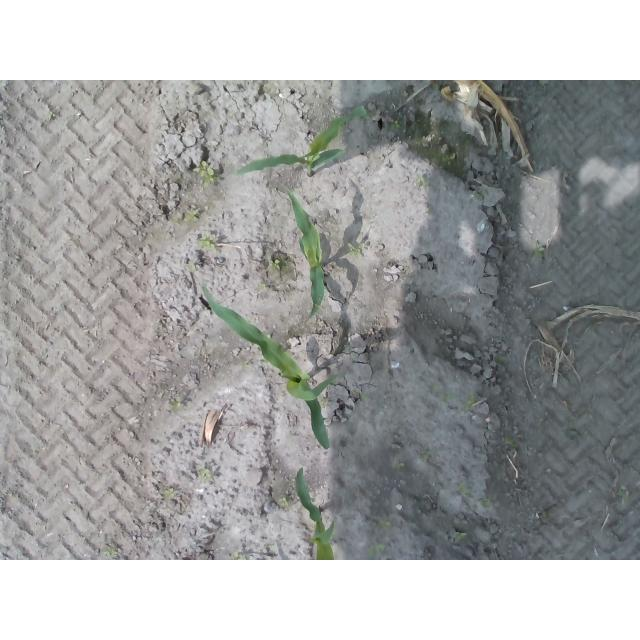Maize: (198, 282, 338, 450), (235, 105, 367, 179), (288, 190, 325, 323), (294, 468, 335, 561)
Weeds: (194, 161, 214, 180), (198, 239, 218, 252), (346, 243, 362, 256), (391, 460, 406, 473), (616, 485, 629, 499), (185, 209, 199, 221), (441, 154, 456, 165), (106, 544, 119, 556), (198, 468, 210, 480), (459, 484, 470, 497), (371, 544, 386, 553), (269, 260, 281, 271), (170, 399, 182, 410), (504, 437, 517, 447), (378, 520, 392, 529), (165, 487, 176, 498), (418, 451, 430, 461), (415, 176, 425, 188), (533, 246, 543, 257), (465, 399, 475, 409), (391, 118, 400, 128), (455, 531, 465, 540), (359, 393, 369, 402), (279, 498, 289, 506)
